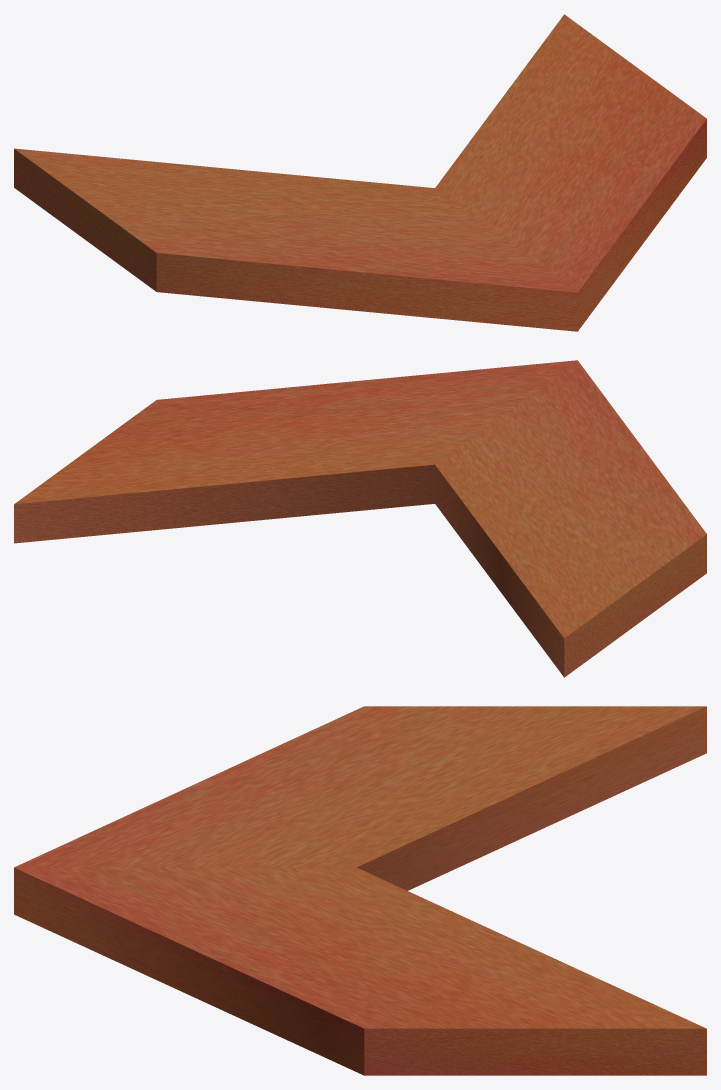
The model's file is meme-factory-exit-sign-art.glb.
3 renders of one model, top to bottom at view 1: azimuth 30°, elevation 25°; view 2: azimuth 150°, elevation 25°; view 3: azimuth 270°, elevation 25°, orthographic. The views are drawn at different scales.
Visible parts, largest first — view 1: MemeFactory_ExitSign_Art; view 2: MemeFactory_ExitSign_Art; view 3: MemeFactory_ExitSign_Art.
Boxes of the visible parts, bbox=[...] form: MemeFactory_ExitSign_Art: bbox=[14, 14, 706, 331]; MemeFactory_ExitSign_Art: bbox=[14, 360, 706, 677]; MemeFactory_ExitSign_Art: bbox=[14, 706, 706, 1075].
Bounding box in the file's own units: 1.12 × 0.0759 × 1.01.
1 material, 1 textured.
